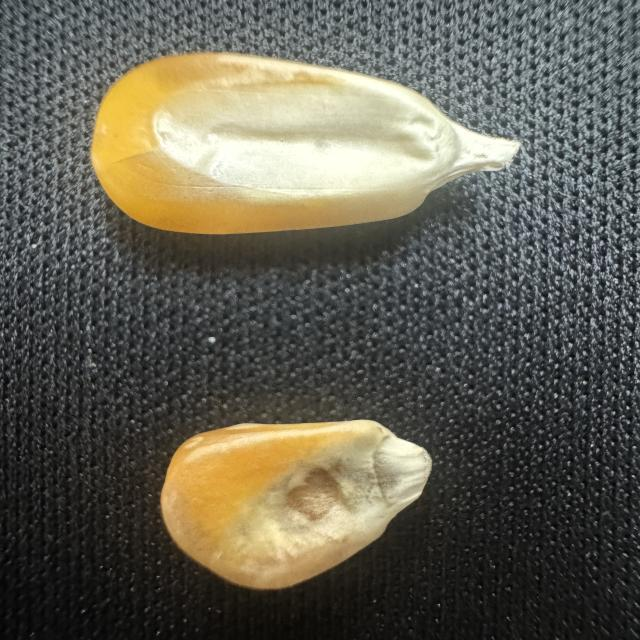Bad-Seed: (153, 410, 440, 592)
Good-Seed: (85, 42, 538, 240)
